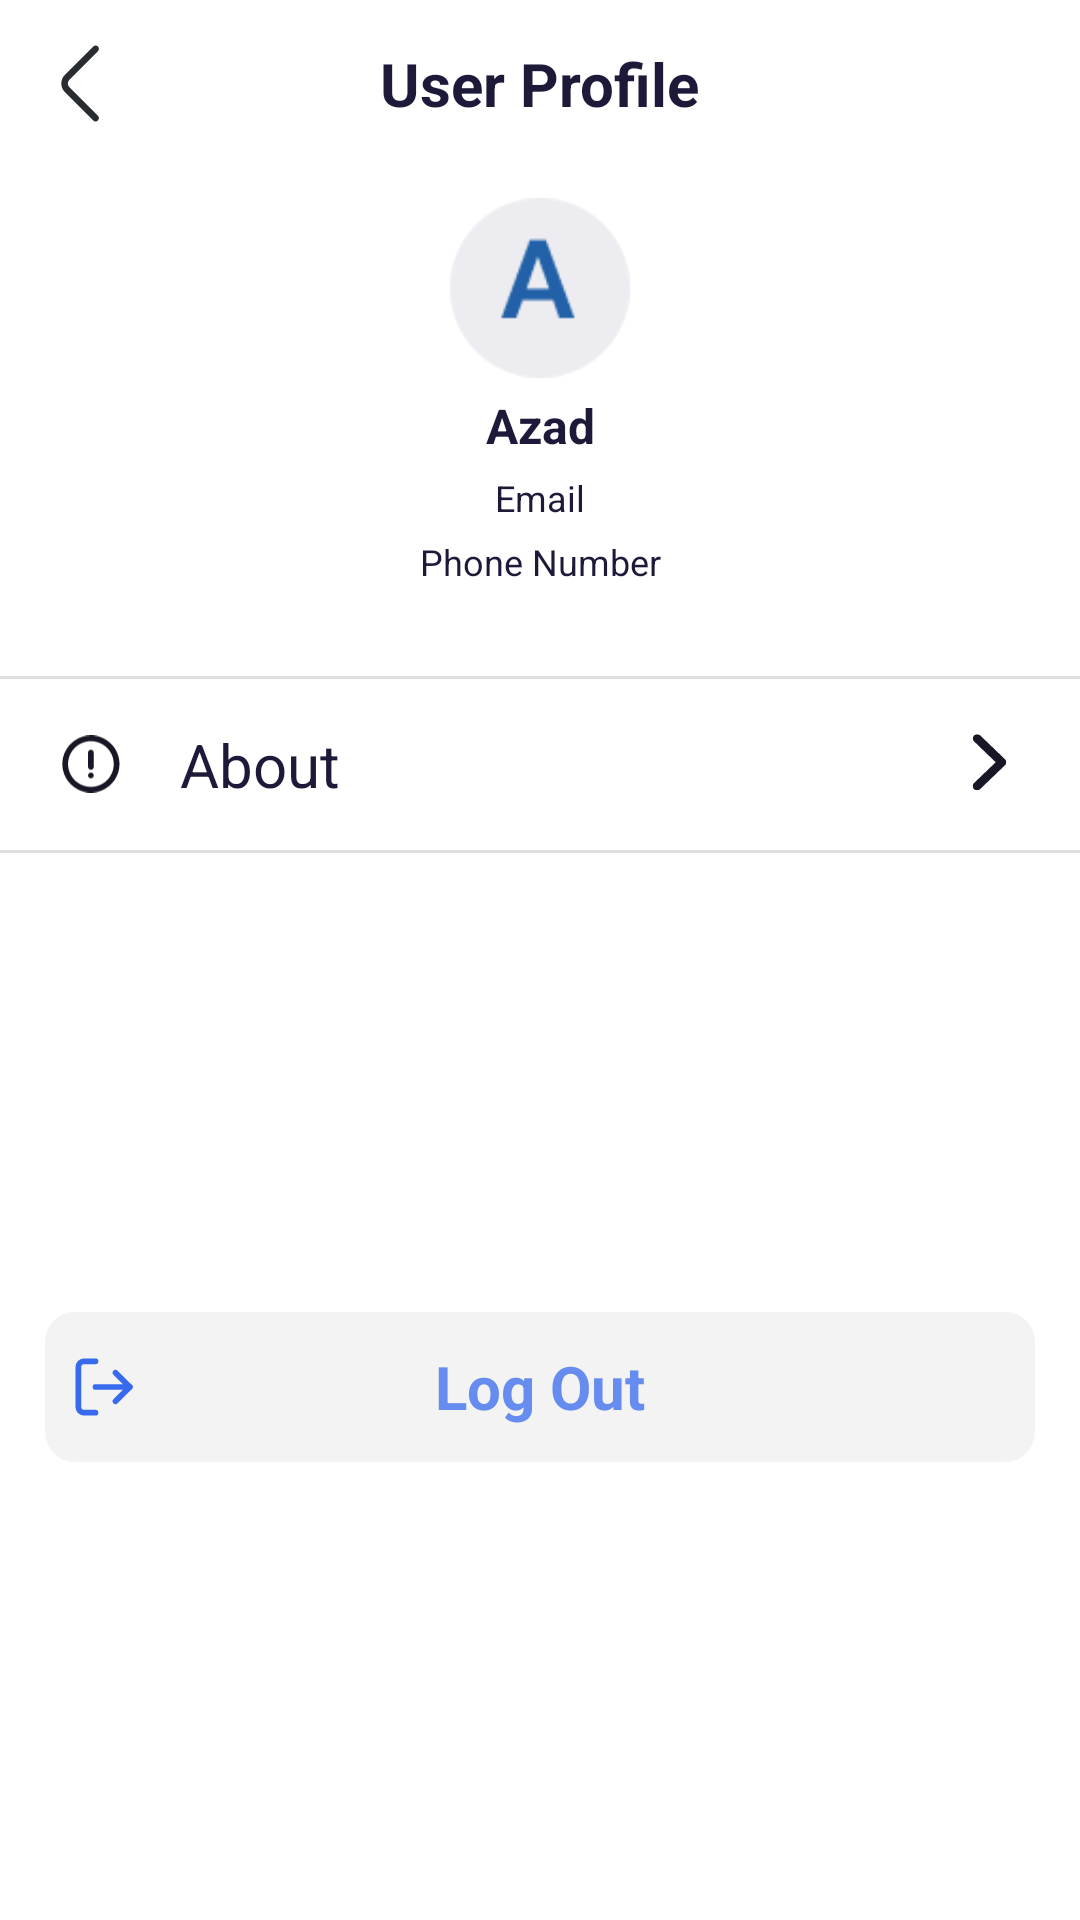

Named icons in this screenshot (1080x1920) and their bounding boxes, (x1, y1, x2, y2):
back: (61, 45, 99, 122)
next: (973, 734, 1006, 790)
